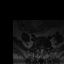CCS_normal: (41, 47, 42, 54)
LFS_stenosis: (44, 45, 45, 51)
LLS_stenosis: (42, 46, 44, 52)
RFS_stenosis: (38, 46, 39, 51)
RLS_stenosis: (39, 46, 41, 52)
